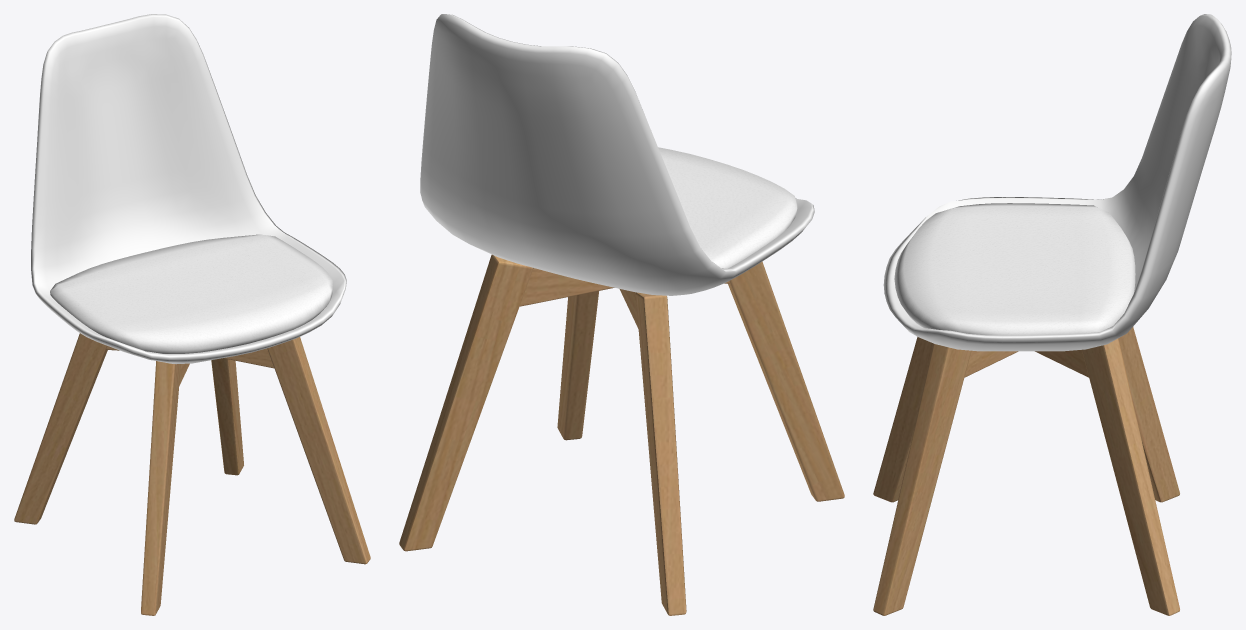
The model's file is chair.fbx.
The picture shows the model from 3 angles, left to right: view 1: azimuth 30°, elevation 25°; view 2: azimuth 150°, elevation 25°; view 3: azimuth 270°, elevation 25°; orthographic projection. The views are drawn at different scales.
Visible parts, largest first — view 1: chair; view 2: chair; view 3: chair.
Part boxes in pixels (left/top/right/bottom): chair: left=14, top=14, right=370, bottom=615; chair: left=399, top=14, right=844, bottom=615; chair: left=873, top=14, right=1231, bottom=615.
Size of the model in its own units: 48.44 by 51.5 by 80.9.
1 material, 1 textured.
